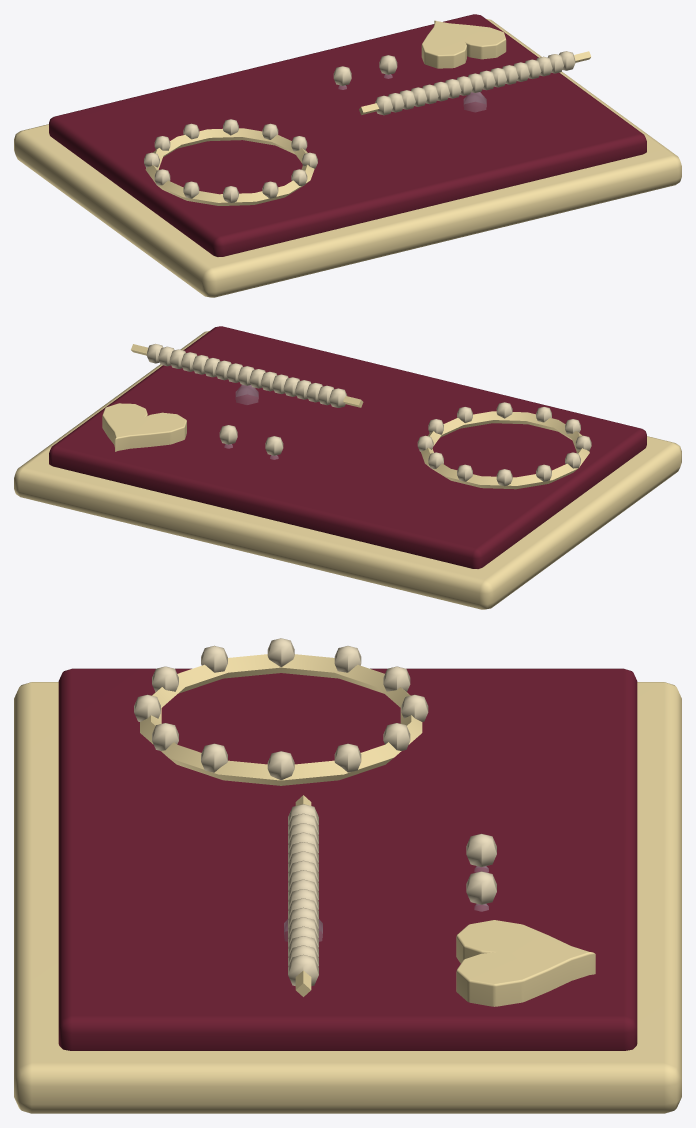
Rendered from tray_velvet_jewelry.glb.
3 views of the same model, one above another, from view 1: azimuth 30°, elevation 25°; view 2: azimuth 150°, elevation 25°; view 3: azimuth 270°, elevation 25° (orthographic). The views are drawn at different scales.
Parts seen in each view (by area): view 1: tray_velvet_jewelry; view 2: tray_velvet_jewelry; view 3: tray_velvet_jewelry.
Part boxes in pixels (x1,y1,x2,y2): tray_velvet_jewelry: (14, 14, 681, 297); tray_velvet_jewelry: (14, 326, 681, 609); tray_velvet_jewelry: (14, 638, 681, 1113).
Size of the model in its own units: 0.42 by 0.068 by 0.3.
